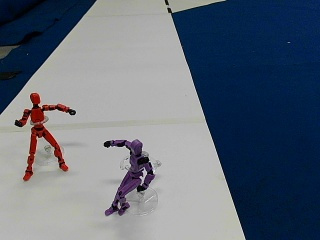pedestrian: (17, 94, 76, 180), (104, 137, 155, 216)
